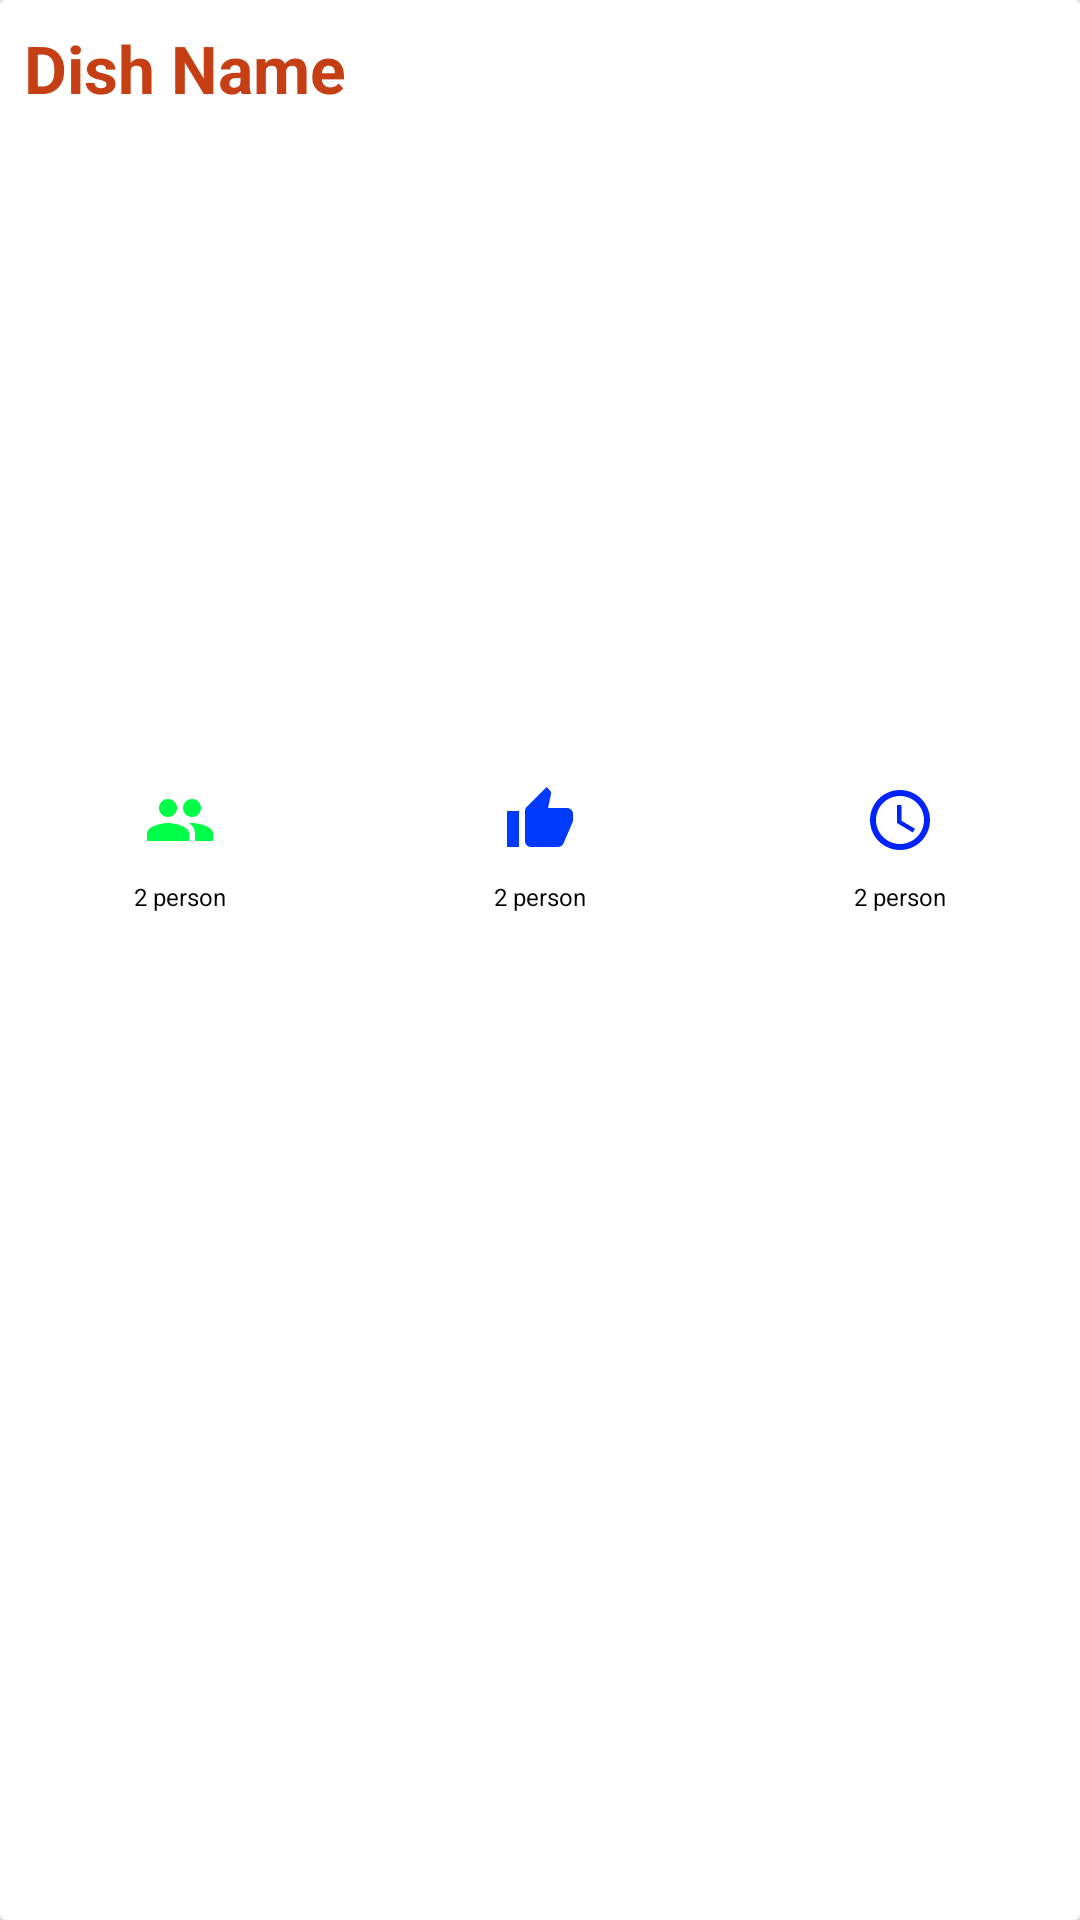

Screen size 1080px x 1920px. Icon name, then its box in pixels as (x1, y1, x2, y2):
like: (507, 787, 573, 847)
time: (870, 790, 930, 850)
